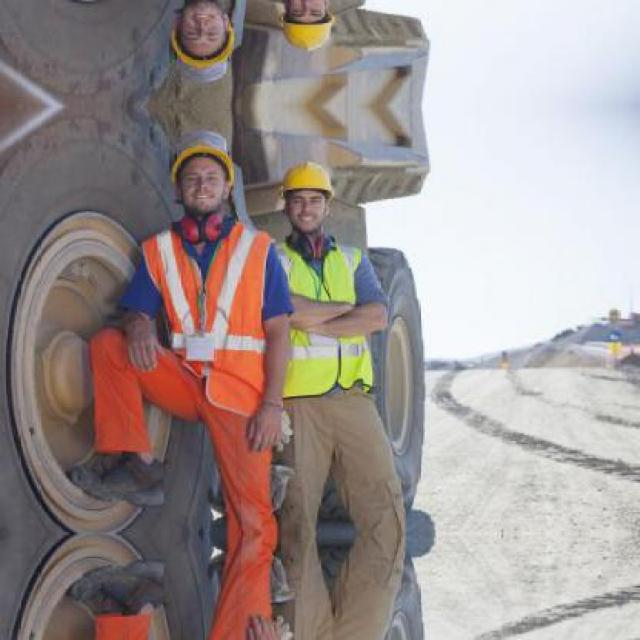Reflective-Jacket: (136, 214, 278, 418), (271, 231, 386, 406)
Safety-Helmet: (158, 122, 252, 190), (270, 154, 342, 208)
